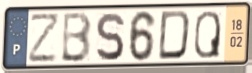6: (128, 9, 156, 63)
B: (59, 10, 94, 64)
D: (156, 9, 193, 62)
Q: (193, 9, 222, 60)
S: (94, 10, 126, 63)
Z: (27, 11, 62, 65)
